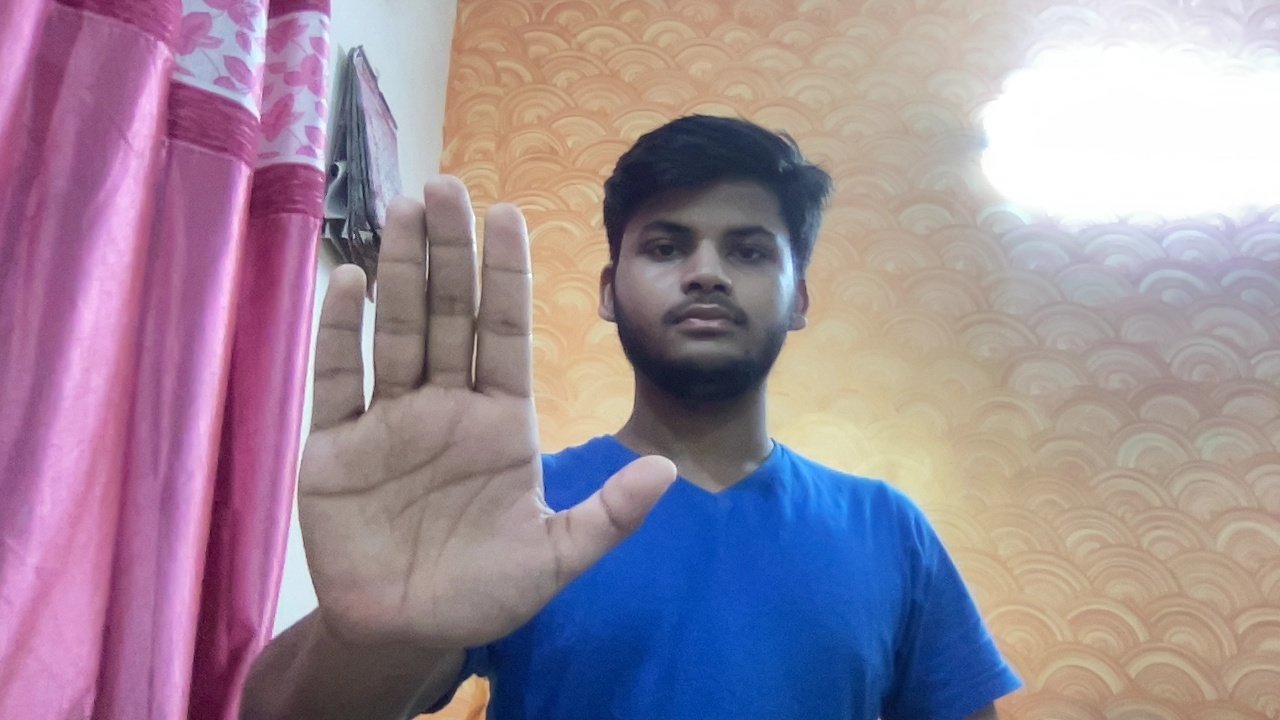hello: (289, 160, 680, 675)
